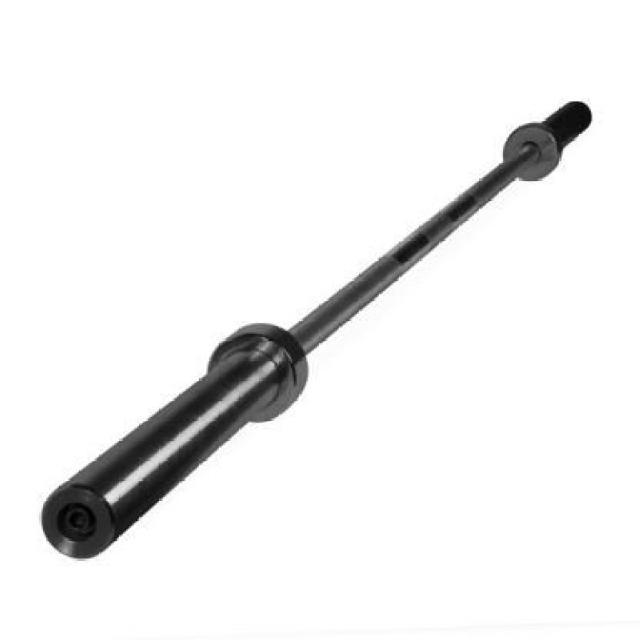Barbell: (36, 473, 124, 564)
